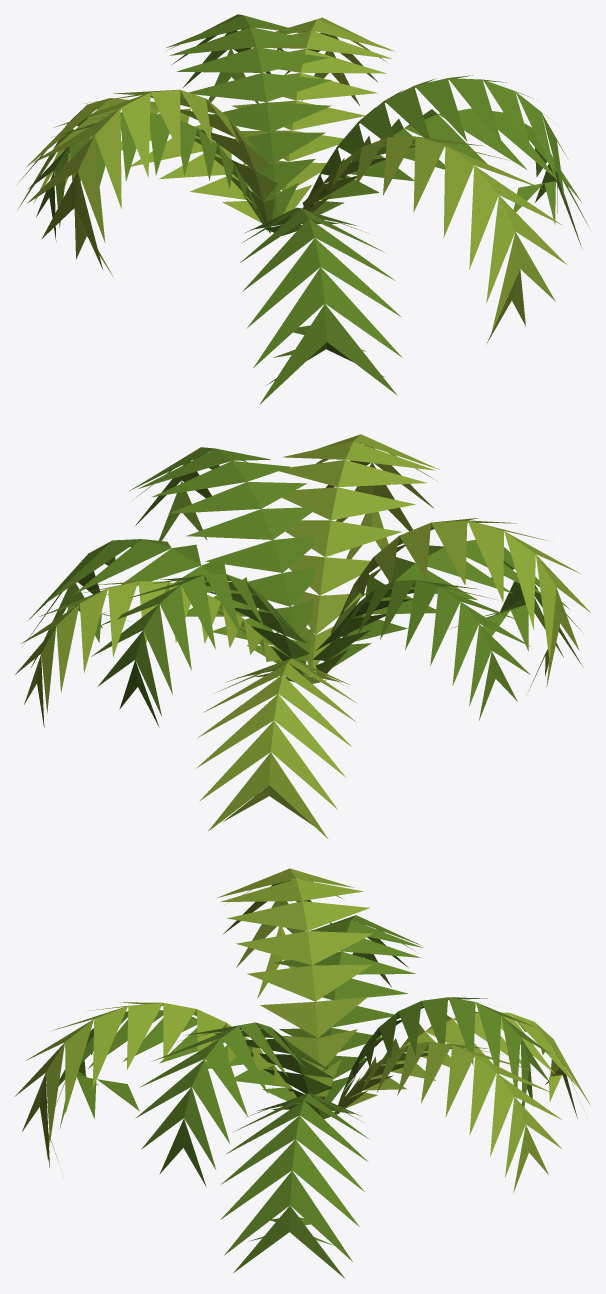
Rendered from fougeres_2.glb.
The picture shows the model from 3 angles, top to bottom: view 1: azimuth 30°, elevation 25°; view 2: azimuth 150°, elevation 25°; view 3: azimuth 270°, elevation 25°; orthographic projection. The views are drawn at different scales.
Visible parts, largest first — view 1: fougeres_2; view 2: fougeres_2; view 3: fougeres_2.
Part boxes in pixels (<box>): fougeres_2: <box>18,14,589,404</box>; fougeres_2: <box>15,434,590,838</box>; fougeres_2: <box>14,868,590,1278</box>.
Bounding box in the file's own units: 1.44 × 0.6094 × 1.49.
